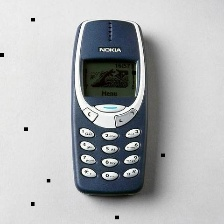phone: (65, 13, 152, 199)
